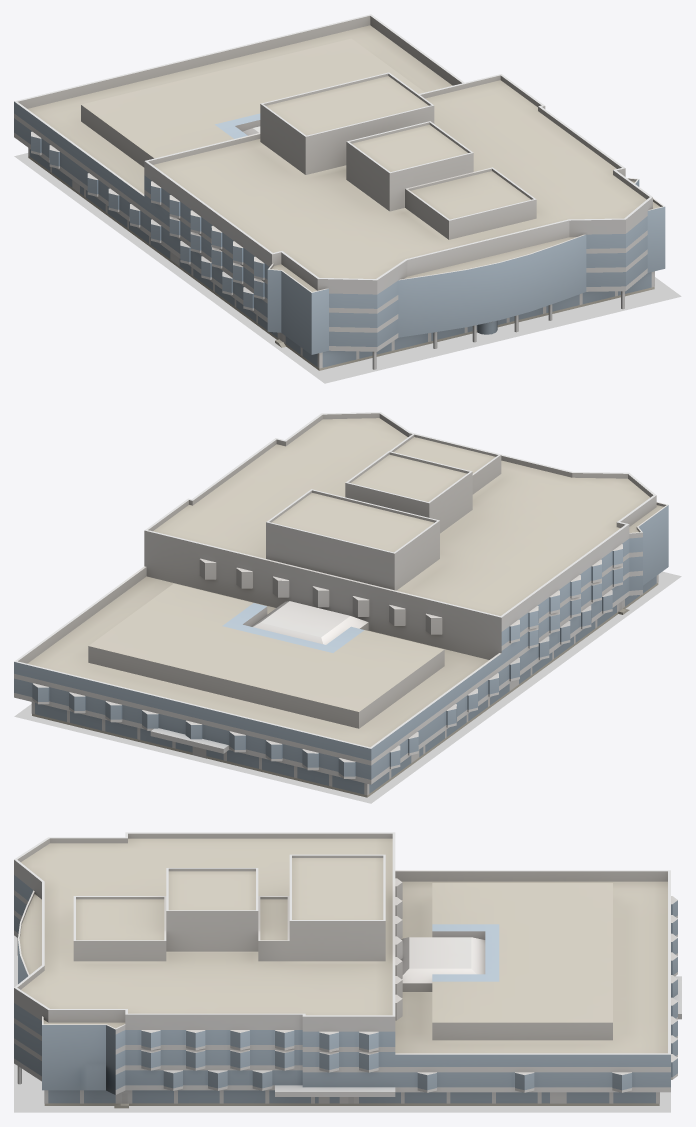
Rendered from solimanhospital1.glb.
3 renders of one model, top to bottom at view 1: azimuth 30°, elevation 25°; view 2: azimuth 150°, elevation 25°; view 3: azimuth 270°, elevation 25°, orthographic. The views are drawn at different scales.
Visible parts, largest first — view 1: solimanhospital1, solimanhospital1_cont; view 2: solimanhospital1, solimanhospital1_cont; view 3: solimanhospital1, solimanhospital1_cont.
Part boxes in pixels (box(x1,y1,x2,y2)): solimanhospital1: box(14, 14, 665, 370); solimanhospital1_cont: box(14, 153, 681, 383); solimanhospital1: box(14, 412, 668, 797); solimanhospital1_cont: box(14, 571, 681, 803); solimanhospital1: box(14, 832, 681, 1108); solimanhospital1_cont: box(14, 935, 670, 1112).
Size of the model in its own units: 82.3 by 26 by 120.
2 materials, 1 textured.
